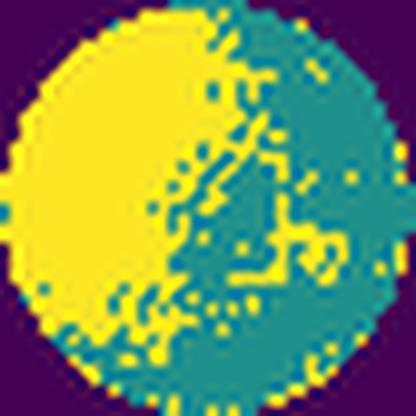Edge-Loc: (0, 0, 284, 357)
